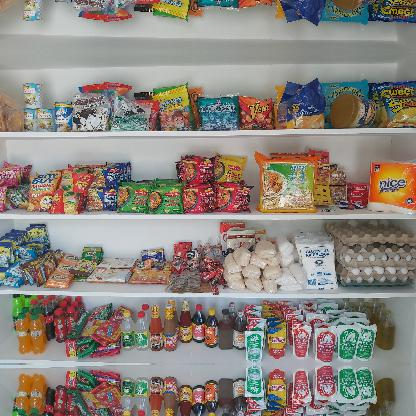Lady-s-Choice: (328, 92, 376, 128), (328, 0, 376, 12)
